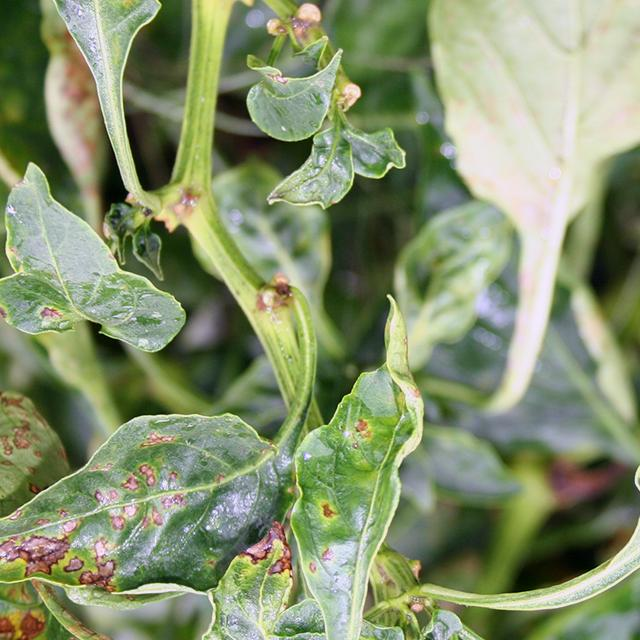Tomato leaf bacterial spot: (12, 410, 266, 639), (274, 354, 454, 640), (583, 103, 640, 576)
